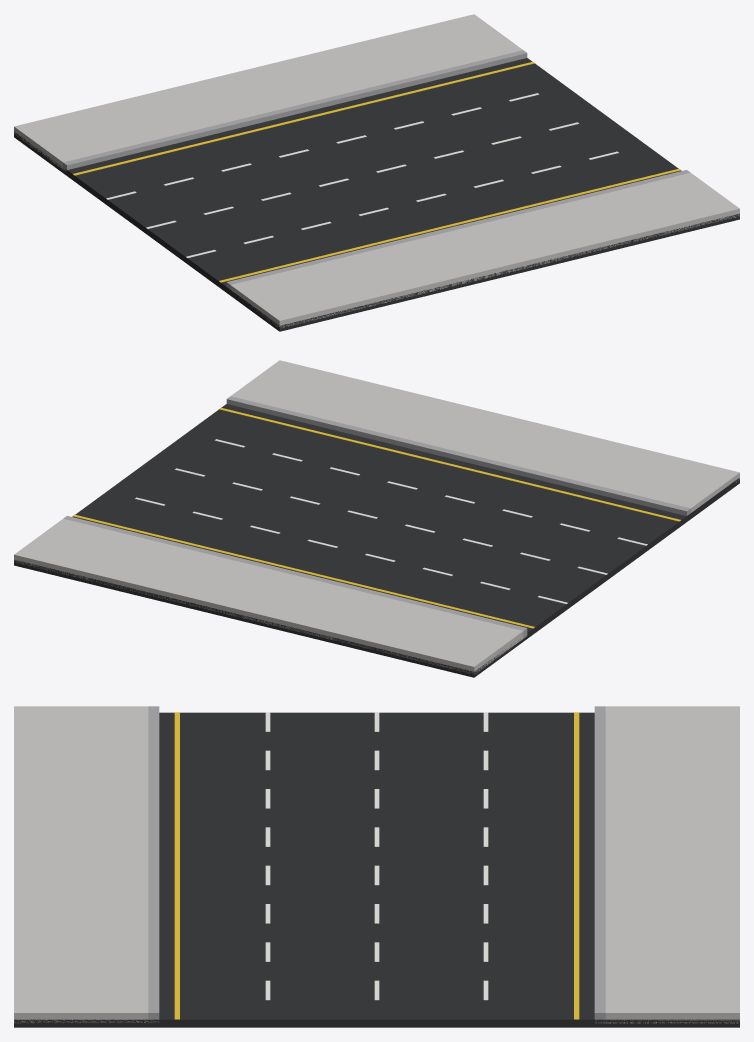
Rendered from straight_road.glb.
The picture shows the model from 3 angles, top to bottom: view 1: azimuth 30°, elevation 25°; view 2: azimuth 150°, elevation 25°; view 3: azimuth 270°, elevation 25°; orthographic projection. The views are drawn at different scales.
Visible parts, largest first — view 1: Road_Straight_Asphalt, Road_Straight_Sidewalk, Road_Straight_Curb, Road_Straight_Markings_Yellow, Road_Straight_Markings_White; view 2: Road_Straight_Asphalt, Road_Straight_Sidewalk, Road_Straight_Curb, Road_Straight_Markings_Yellow, Road_Straight_Markings_White; view 3: Road_Straight_Asphalt, Road_Straight_Sidewalk, Road_Straight_Curb, Road_Straight_Markings_Yellow, Road_Straight_Markings_White.
Part boxes in pixels (<box>): Road_Straight_Asphalt: <box>14,58,739,331</box>; Road_Straight_Sidewalk: <box>14,14,739,328</box>; Road_Straight_Curb: <box>63,50,690,289</box>; Road_Straight_Markings_Yellow: <box>73,61,680,282</box>; Road_Straight_Markings_White: <box>106,93,618,258</box>; Road_Straight_Asphalt: <box>14,404,739,677</box>; Road_Straight_Sidewalk: <box>14,360,739,674</box>; Road_Straight_Curb: <box>63,396,690,638</box>; Road_Straight_Markings_Yellow: <box>73,407,680,628</box>; Road_Straight_Markings_White: <box>135,439,647,604</box>; Road_Straight_Asphalt: <box>14,712,739,1027</box>; Road_Straight_Sidewalk: <box>14,706,739,1023</box>; Road_Straight_Curb: <box>148,706,605,1023</box>; Road_Straight_Markings_Yellow: <box>174,712,579,1019</box>; Road_Straight_Markings_White: <box>265,712,488,1000</box>.
Bounding box in the file's own units: 80.04 × 1.8 × 80.
